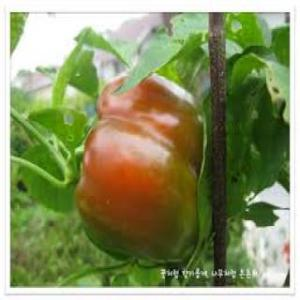bell_pepper: (66, 74, 206, 278)
